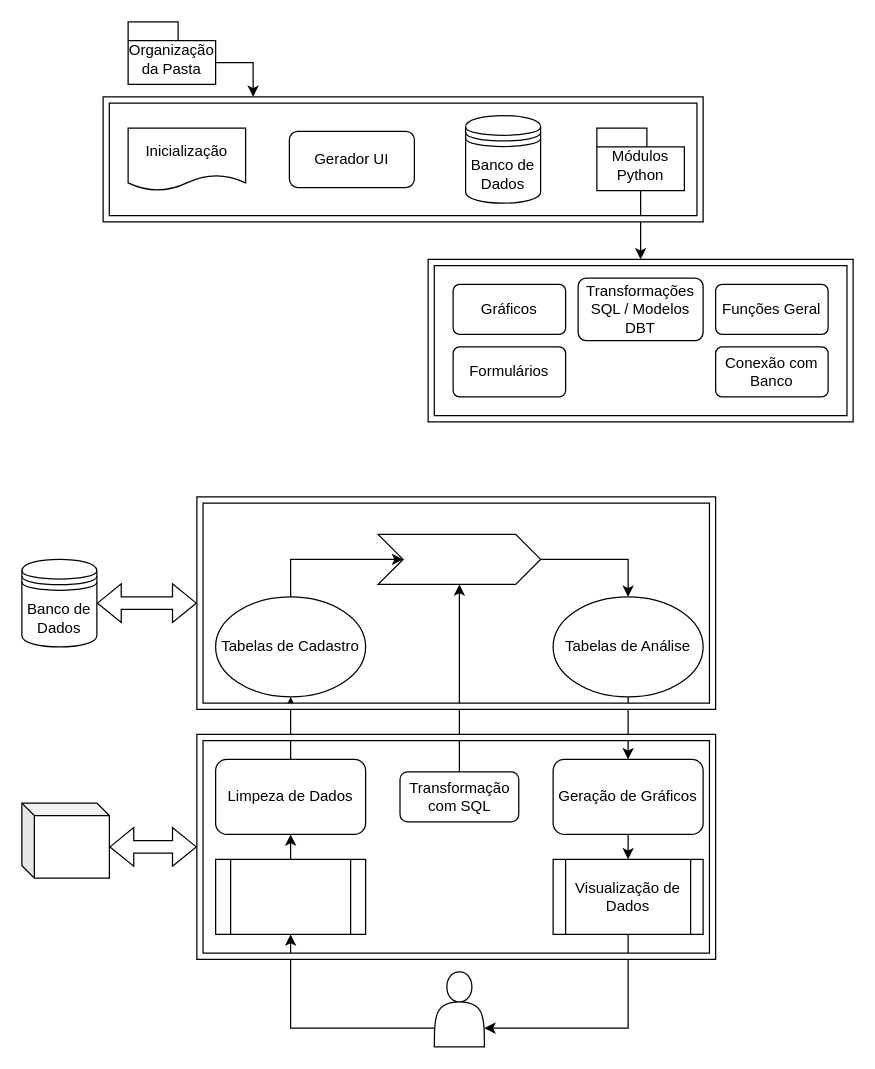
Some shapes in this 875 by 1069 pixel diagram are drawn without their labels. The shapes that lost their labels are listed below. From the top down, each one's centre as x and y in pixels, then its label:
At pixel 459 558: "Processamento".
At pixel 65 840: "Python".
